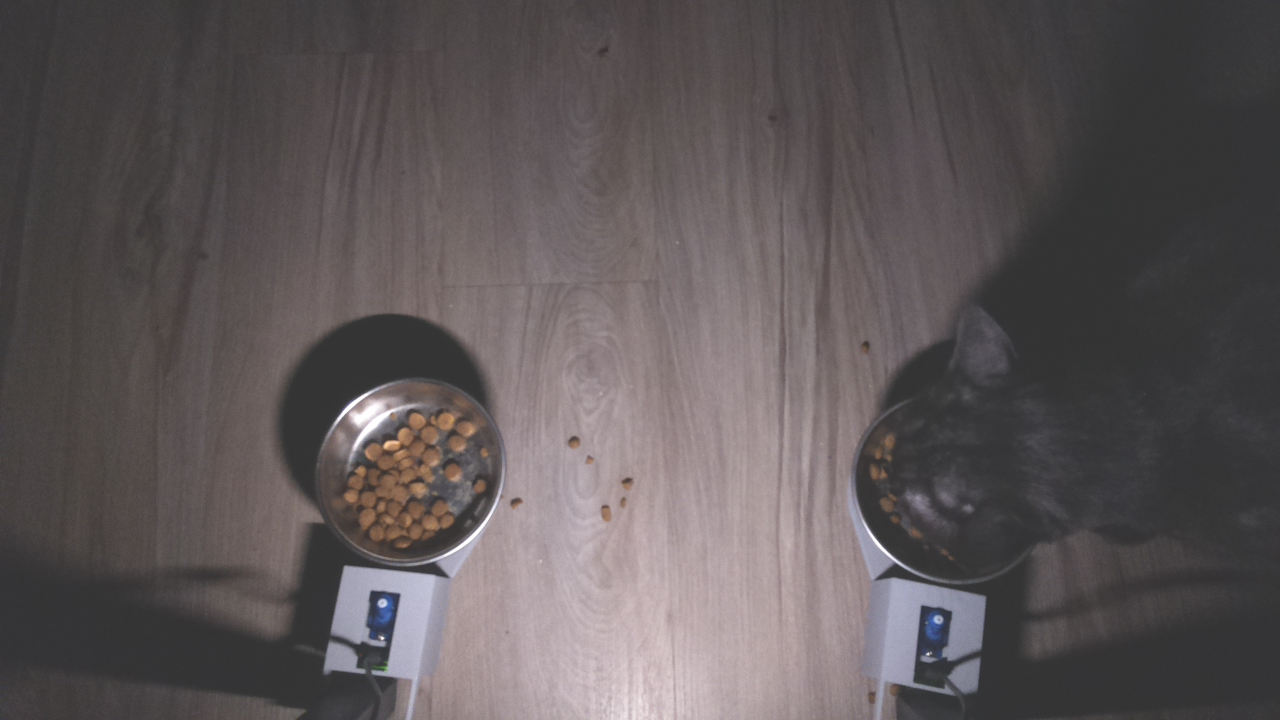open_bowl: (309, 372, 509, 570)
saki_eating: (842, 292, 1136, 597)
